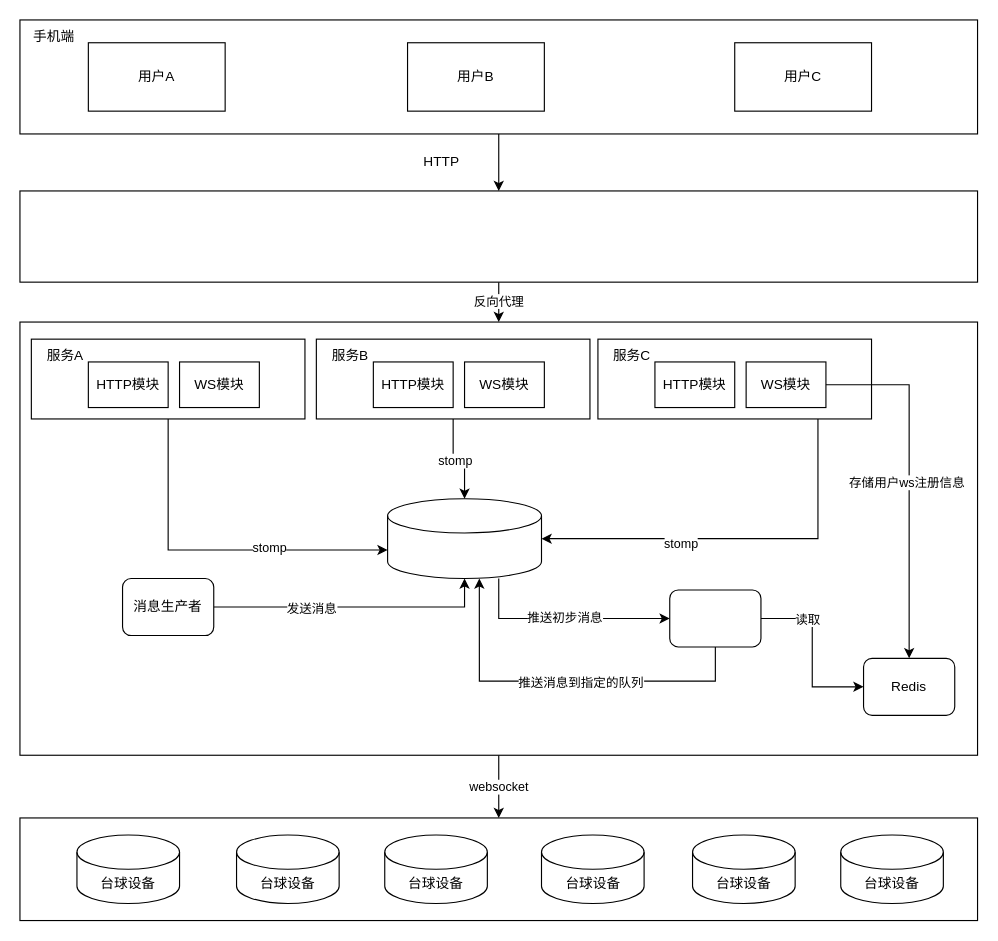
Some shapes in this 998 by 941 pixel diagram are drawn without their labels. Here are the shapes that lost their labels. From the top down, the box of each, then its label:
(19, 190, 978, 282): Nginx
(386, 498, 542, 579): RabbitMQ
(669, 589, 761, 647): dispatch
